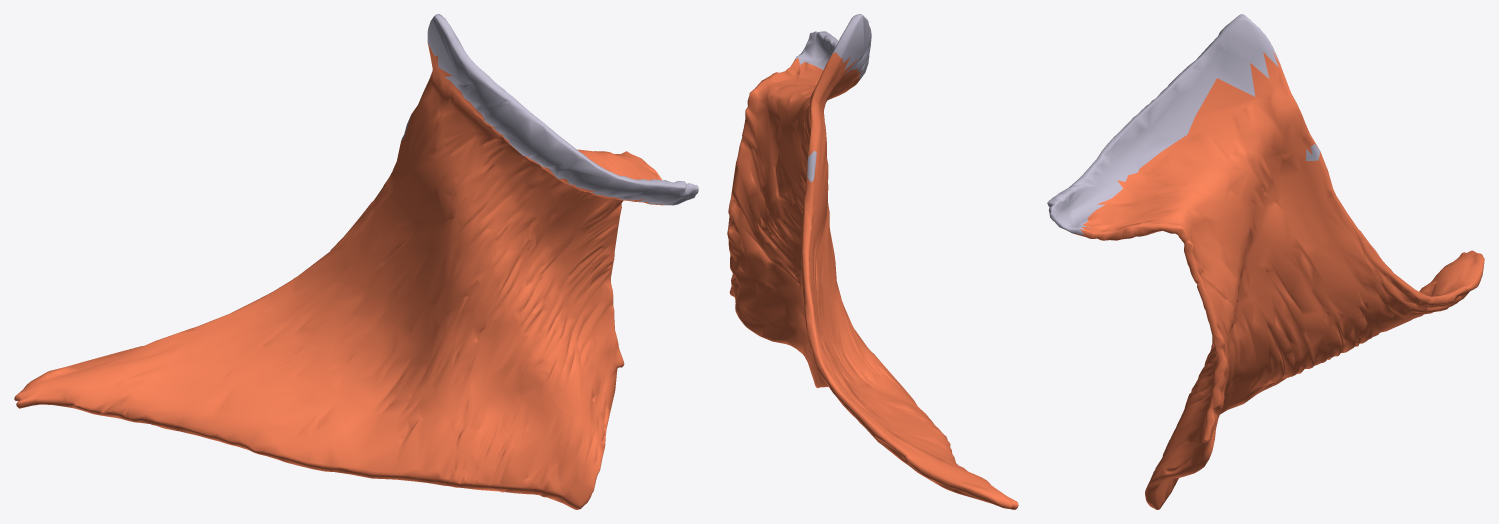
File: Platysma.r_Generated_Mesh_From_X3D.292.glb
3 views of the same model, side by side, from view 1: azimuth 30°, elevation 25°; view 2: azimuth 150°, elevation 25°; view 3: azimuth 270°, elevation 25° (orthographic). The views are drawn at different scales.
Visible parts, largest first — view 1: Platysma.r_Generated_Mesh_From_X3D.292; view 2: Platysma.r_Generated_Mesh_From_X3D.292; view 3: Platysma.r_Generated_Mesh_From_X3D.292.
Boxes of the visible parts, x1,y1,x2,y2 form: Platysma.r_Generated_Mesh_From_X3D.292: (14, 14, 698, 509); Platysma.r_Generated_Mesh_From_X3D.292: (727, 14, 1018, 509); Platysma.r_Generated_Mesh_From_X3D.292: (1047, 14, 1484, 509).
Bounding box in the file's own units: 0.1439 × 0.1421 × 0.1245.
